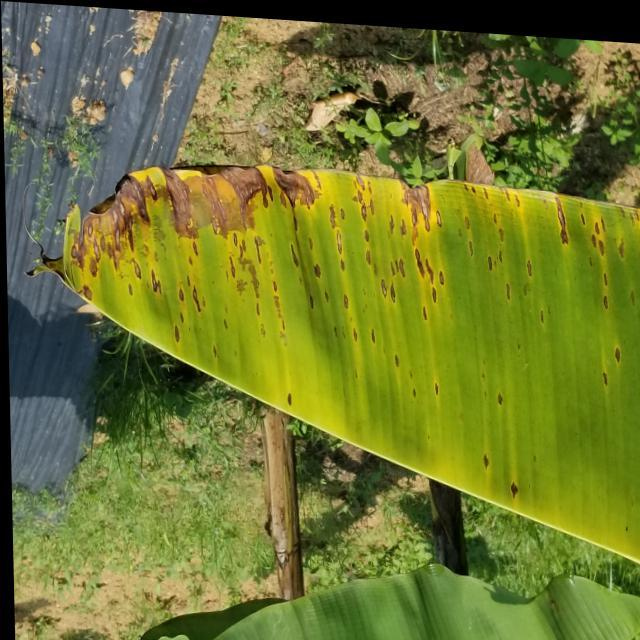Early_rust: (50, 86, 640, 563)
